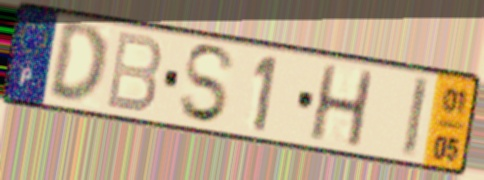1: (251, 53, 280, 134)
B: (102, 28, 165, 116)
D: (45, 21, 110, 108)
H: (305, 62, 377, 151)
I: (398, 73, 433, 161)
S: (176, 42, 239, 127)
